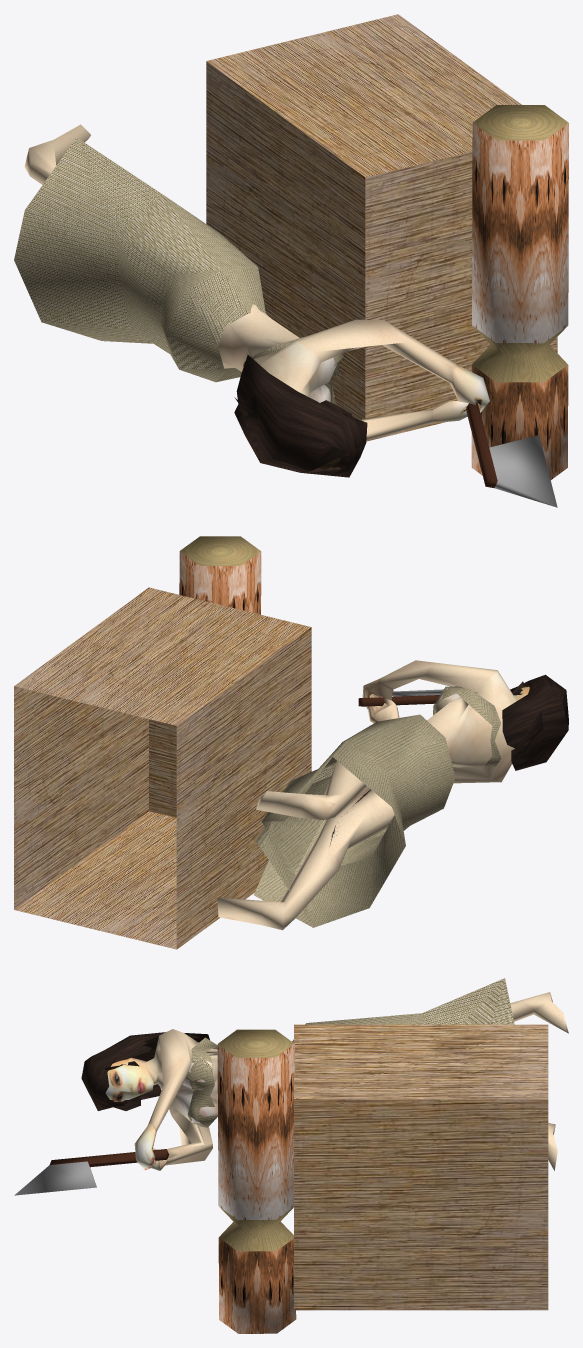
File: worker_000604.obj
3 renders of one model, top to bottom at view 1: azimuth 30°, elevation 25°; view 2: azimuth 150°, elevation 25°; view 3: azimuth 270°, elevation 25°, orthographic. The views are drawn at different scales.
Visible parts, largest first — view 1: cube_Cube, saree_Cylinder, log_Cylinder.003, body.001_omino.012, hair.003_omino.013, axe_Cylinder.001; view 2: cube_Cube, saree_Cylinder, body.001_omino.012, log_Cylinder.003, hair.003_omino.013, axe_Cylinder.001; view 3: cube_Cube, log_Cylinder.003, body.001_omino.012, saree_Cylinder, hair.003_omino.013, axe_Cylinder.001.
Part boxes in pixels (left/top/right/bottom): cube_Cube: left=206, top=14, right=557, bottom=441; saree_Cylinder: left=14, top=137, right=343, bottom=406; log_Cylinder.003: left=471, top=105, right=568, bottom=479; body.001_omino.012: left=24, top=124, right=489, bottom=469; hair.003_omino.013: left=234, top=354, right=367, bottom=477; axe_Cylinder.001: left=466, top=402, right=557, bottom=507; cube_Cube: left=14, top=587, right=311, bottom=949; saree_Cylinder: left=254, top=686, right=501, bottom=927; body.001_omino.012: left=217, top=660, right=529, bottom=930; log_Cylinder.003: left=179, top=536, right=261, bottom=614; hair.003_omino.013: left=502, top=674, right=568, bottom=770; axe_Cylinder.001: left=358, top=689, right=443, bottom=706; cube_Cube: left=294, top=1024, right=548, bottom=1310; log_Cylinder.003: left=217, top=1029, right=296, bottom=1333; body.001_omino.012: left=105, top=992, right=568, bottom=1170; saree_Cylinder: left=186, top=978, right=514, bottom=1127; hair.003_omino.013: left=81, top=1032, right=209, bottom=1110; axe_Cylinder.001: left=14, top=1149, right=168, bottom=1195.
Size of the model in its own units: 2.15 by 1.68 by 3.06.
